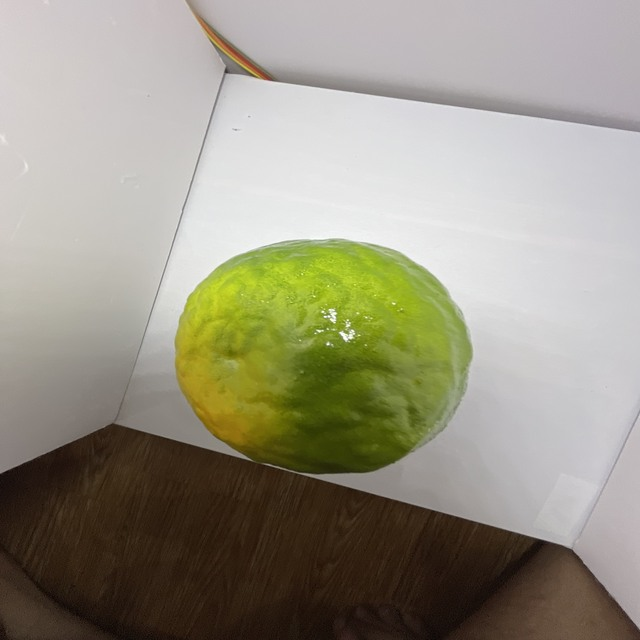Cam xanh: (172, 232, 478, 479)
